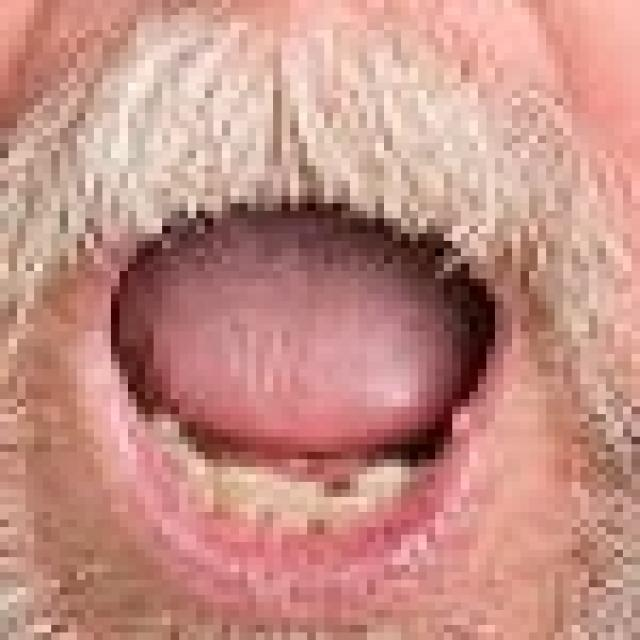open-mouth: (0, 0, 631, 632), (86, 180, 520, 602)
